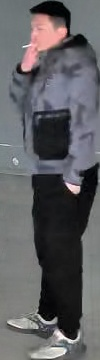smoking: (8, 3, 92, 106)
